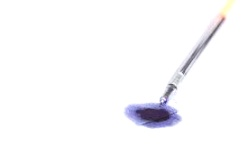ink: (127, 105, 180, 124)
